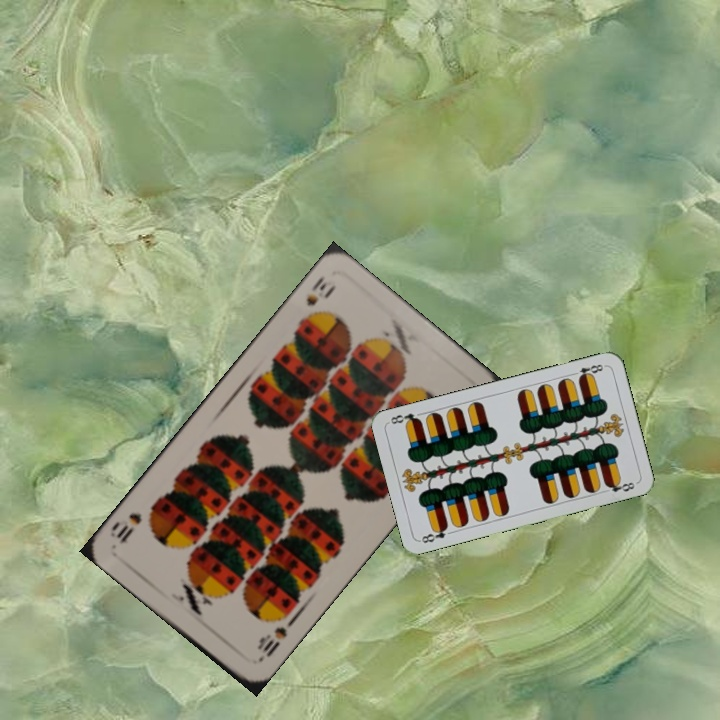E8: (568, 360, 608, 382), (417, 522, 450, 546)
S10: (296, 271, 339, 324), (253, 622, 290, 665)
